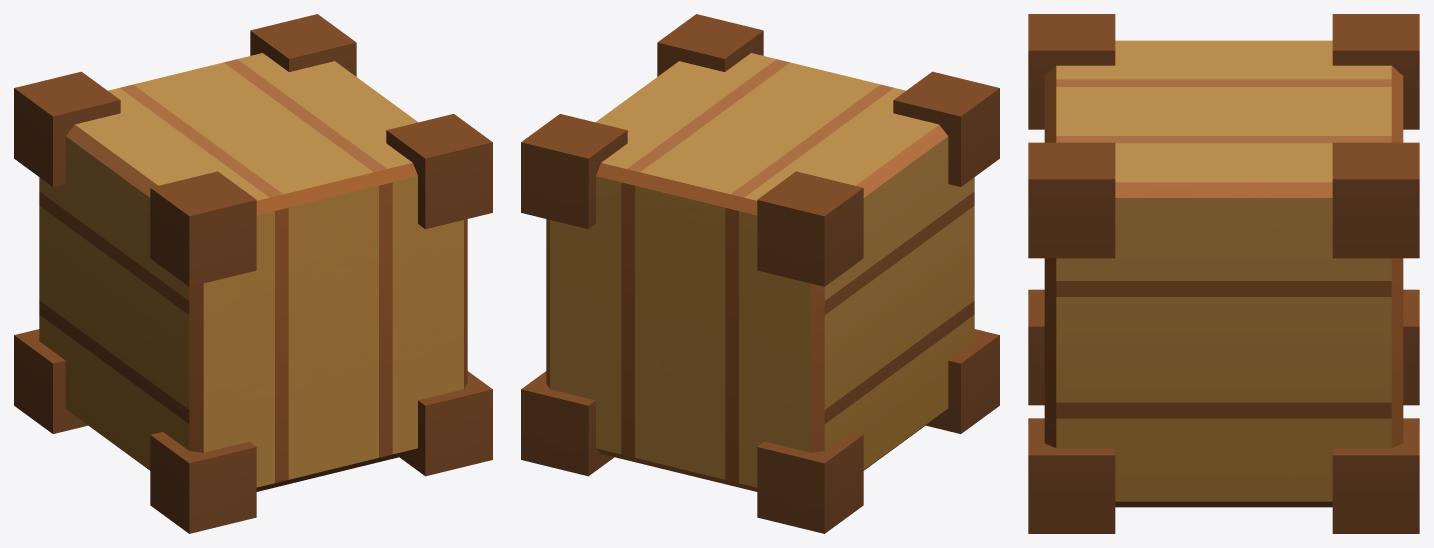
File: Crate.FBX
3 views of the same model, side by side, from view 1: azimuth 30°, elevation 25°; view 2: azimuth 150°, elevation 25°; view 3: azimuth 270°, elevation 25° (orthographic). The views are drawn at different scales.
Parts seen in each view (by area): view 1: Crate; view 2: Crate; view 3: Crate.
Part boxes in pixels (x1,y1,x2,y2): Crate: (14, 14, 492, 533); Crate: (521, 14, 999, 533); Crate: (1028, 14, 1419, 533).
Size of the model in its own units: 0.7191 by 0.7191 by 0.7191.
